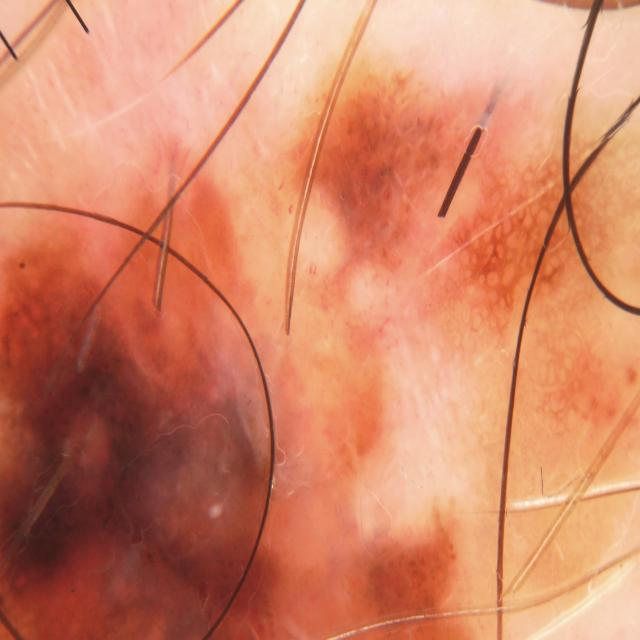Melanoma: (0, 235, 300, 613)
